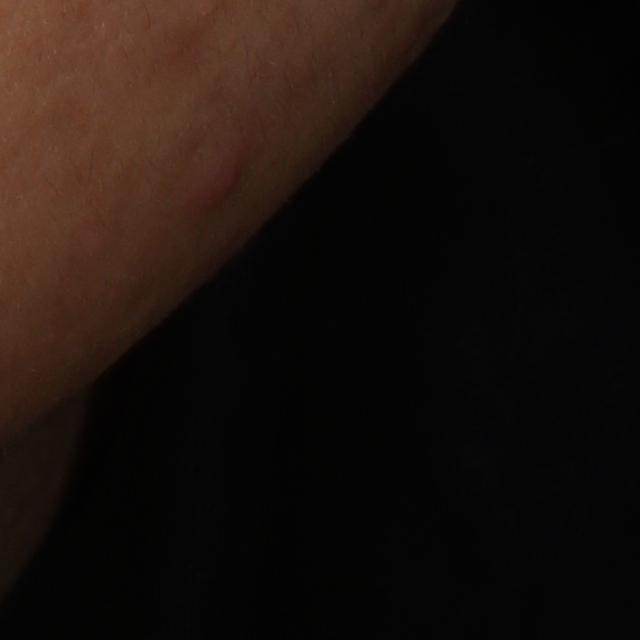papule: (185, 149, 253, 221)
